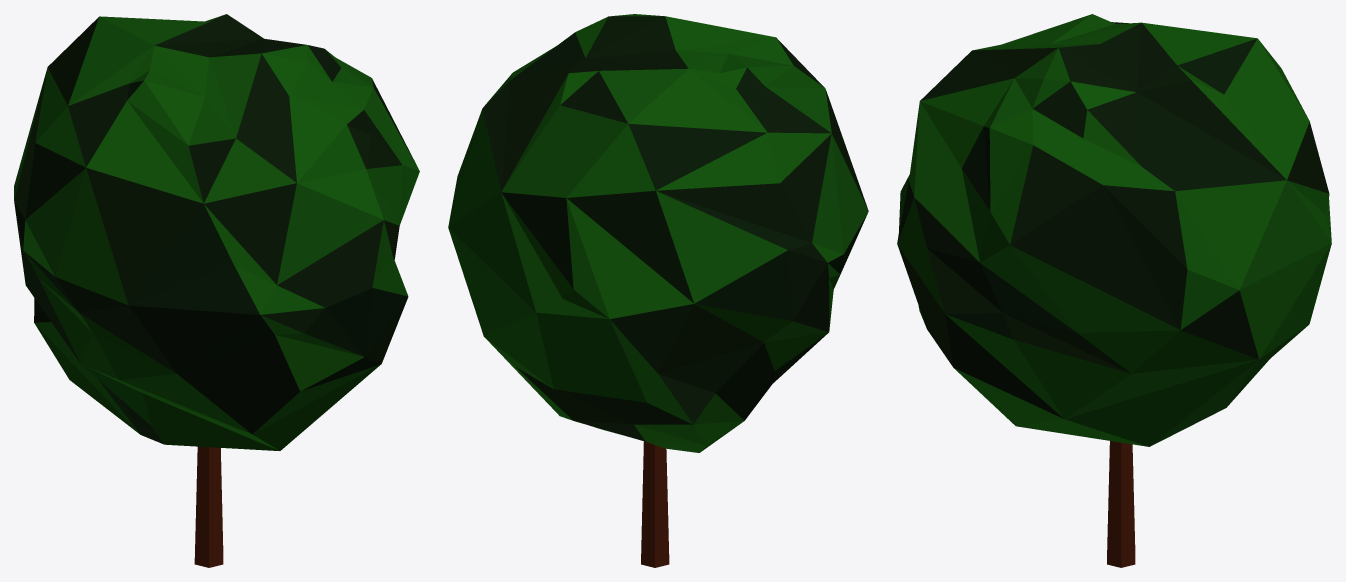
The model's file is tree bush.FBX.
3 views of the same model, side by side, from view 1: azimuth 30°, elevation 25°; view 2: azimuth 150°, elevation 25°; view 3: azimuth 270°, elevation 25° (orthographic).
Parts seen in each view (by area): view 1: tree bush; view 2: tree bush; view 3: tree bush.
Boxes of the visible parts, x1,y1,x2,y2 form: tree bush: (14, 14, 419, 567); tree bush: (448, 14, 868, 567); tree bush: (897, 14, 1331, 567).
Bounding box in the file's own units: 1.56 × 1.7 × 2.25.
